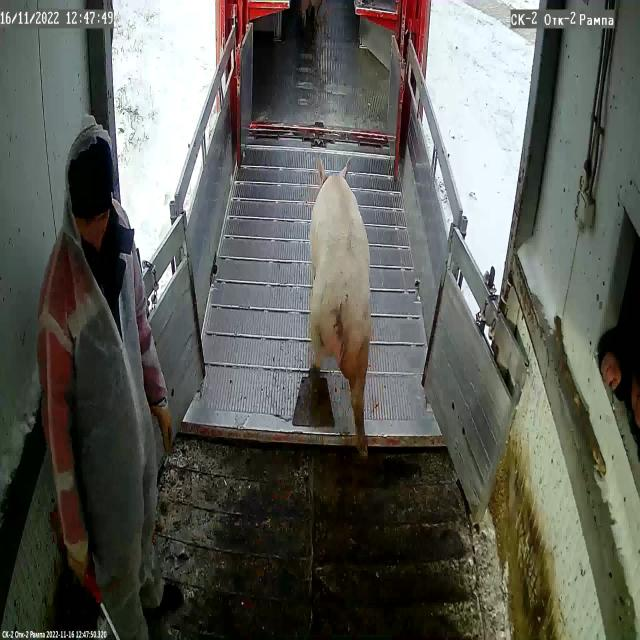pig: (308, 161, 372, 432)
